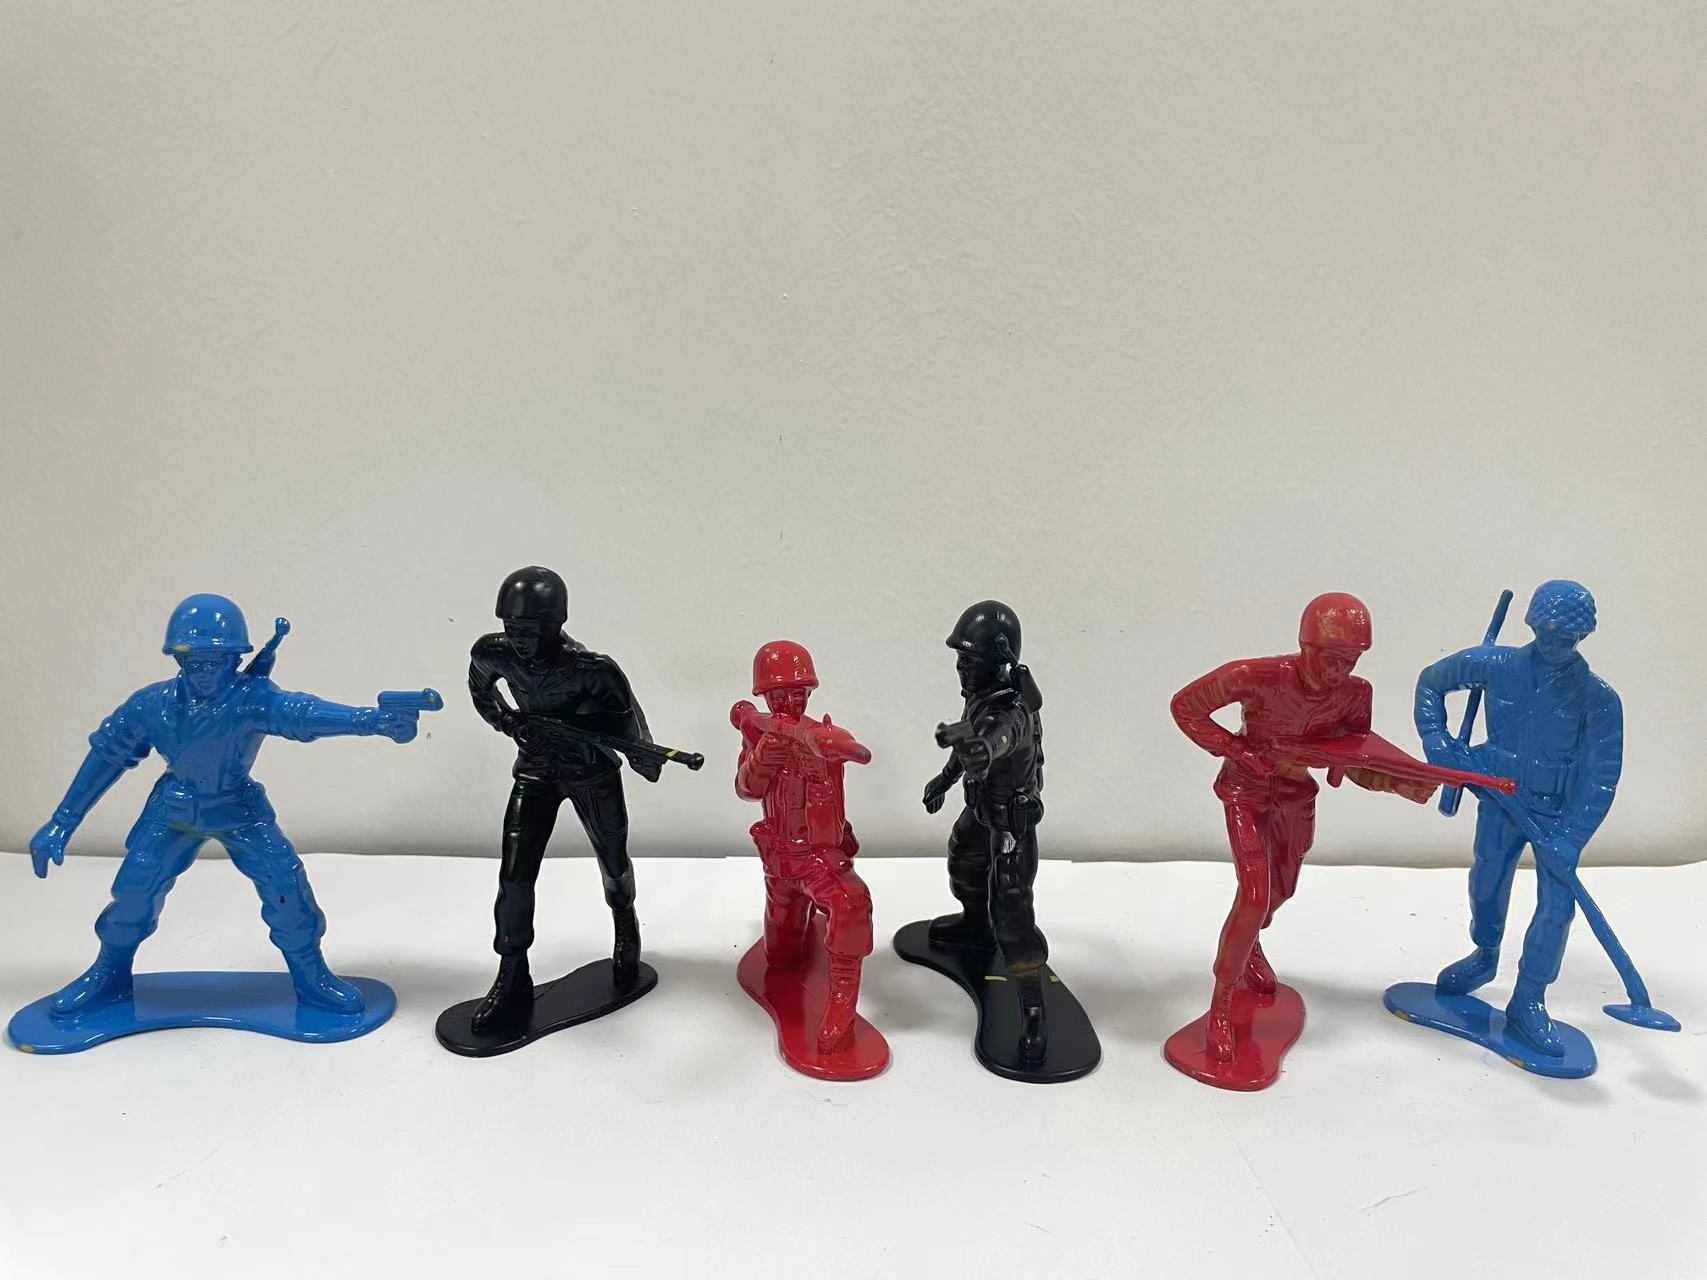black: (442, 541, 694, 1080), (910, 561, 1130, 1113)
blue: (9, 570, 440, 1086), (1415, 555, 1695, 1125)
red: (1147, 567, 1419, 1101), (706, 614, 901, 1098)
